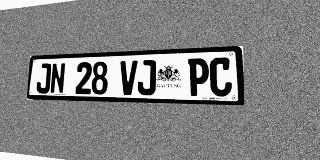2: (75, 62, 92, 94)
8: (91, 61, 108, 94)
C: (210, 57, 232, 96)
J: (137, 60, 156, 95), (36, 63, 51, 94)
N: (50, 63, 66, 94)
P: (188, 58, 209, 96)
V: (119, 60, 137, 95)
